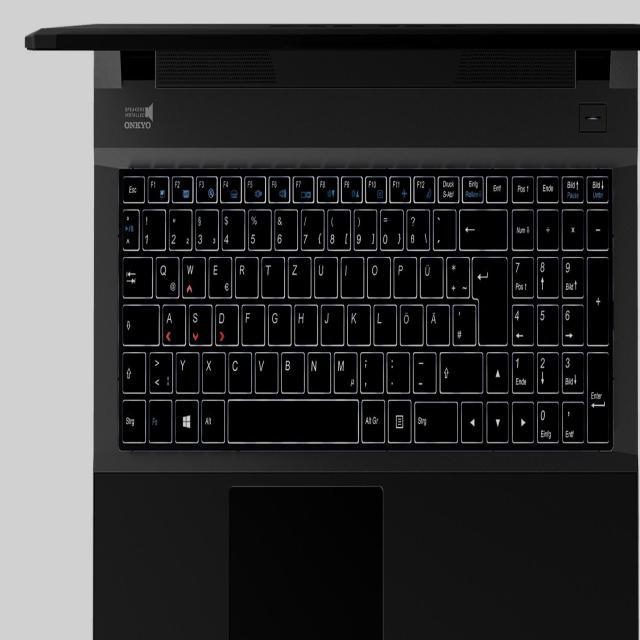0: (377, 204, 402, 247)
1: (140, 205, 165, 248)
2: (166, 205, 191, 247)
3: (192, 204, 217, 248)
4: (220, 205, 244, 248)
5: (245, 204, 270, 247)
6: (272, 204, 296, 247)
7: (299, 205, 323, 248)
8: (325, 204, 349, 248)
9: (351, 204, 376, 247)
a: (160, 299, 184, 343)
accent: (431, 204, 455, 247)
ae: (424, 299, 449, 344)
alt-left: (198, 395, 223, 440)
altgr-right: (359, 395, 384, 440)
b: (278, 346, 303, 391)
c: (225, 346, 250, 391)
caret: (120, 204, 137, 247)
comma: (357, 347, 382, 391)
d: (213, 299, 237, 344)
del: (457, 203, 505, 247)
e: (206, 251, 231, 296)
enter: (469, 252, 506, 343)
f: (239, 299, 263, 343)
g: (265, 299, 289, 343)
h: (292, 299, 316, 343)
hash: (451, 298, 475, 343)
i: (338, 251, 362, 295)
j: (319, 298, 343, 343)
k: (345, 299, 369, 343)
keyboard: (107, 146, 615, 456)
l: (371, 299, 395, 344)
less: (147, 346, 172, 391)
m: (331, 347, 355, 391)
minus: (410, 347, 434, 391)
n: (305, 347, 329, 391)
o: (364, 251, 389, 295)
oe: (397, 299, 421, 344)
p: (391, 250, 415, 296)
plus: (444, 250, 469, 296)
point: (384, 346, 409, 390)
q: (153, 251, 178, 296)
r: (232, 251, 257, 295)
s: (186, 298, 211, 344)
shift-left: (120, 347, 145, 391)
shift-lock: (120, 299, 158, 342)
shift-right: (437, 346, 482, 390)
space: (226, 395, 357, 441)
ss: (404, 204, 428, 247)
strg-left: (119, 395, 145, 441)
strg-right: (411, 396, 457, 440)
t: (259, 251, 283, 295)
tab: (120, 251, 150, 295)
u: (311, 251, 336, 296)
ue: (417, 251, 442, 295)
v: (252, 346, 276, 390)
w: (179, 251, 204, 295)
x: (199, 347, 224, 391)
y: (173, 346, 198, 390)
z: (286, 251, 310, 295)
